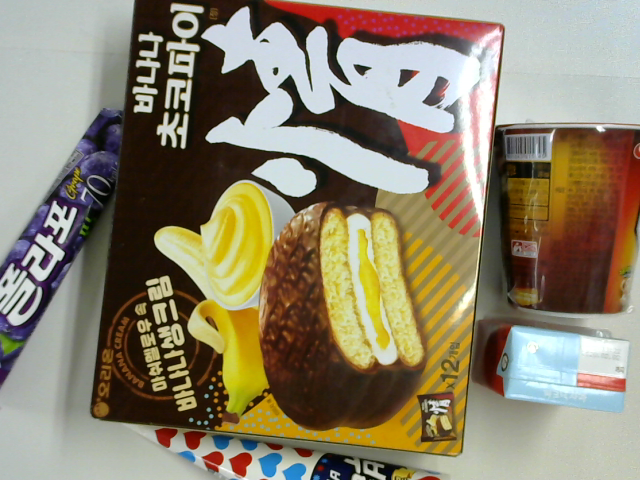Bravo_Cone_(Banila)_CVS: (121, 420, 437, 480)
Choco_Pie_Banana: (93, 6, 507, 458)
Ojjam: (495, 124, 640, 316)
Picnic_Apple: (469, 312, 629, 418)
Polapo_Grape: (1, 108, 135, 396)
